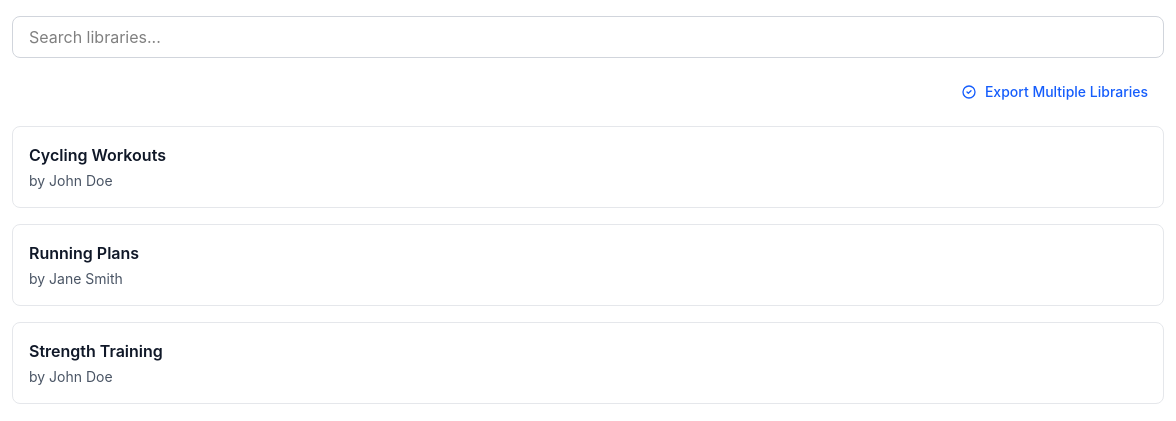
Scenario: LibraryList › Search Functionality › should filter libraries by name
The width and height of the screenshot is (1176, 421).
Expected: the heading "Cycling Workouts" is shown, x1=29 y1=145 x2=166 y2=165
Type "Cycling" into the field with placeholder "Search libraries..." at coordinates (588, 37), box x1=12 y1=16 x2=1164 y2=58
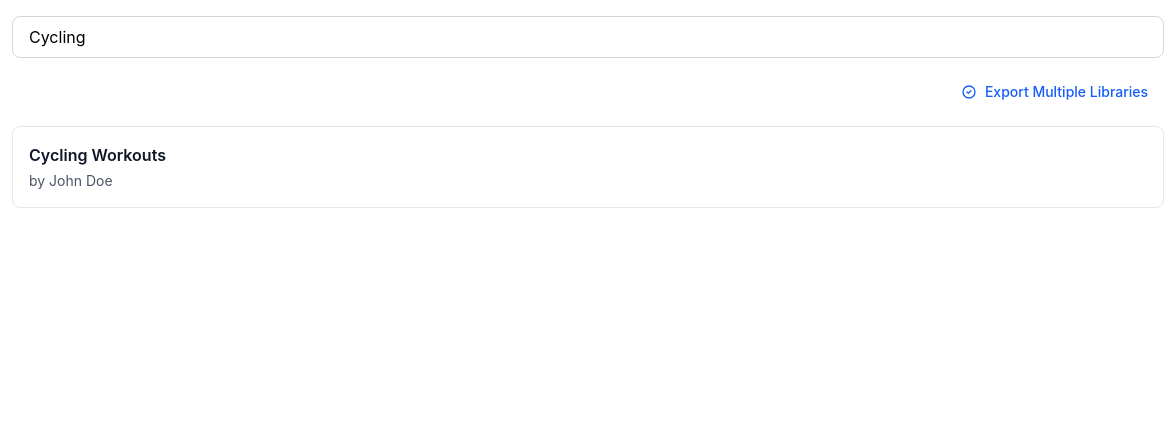
Expected: the heading "Cycling Workouts" is shown, x1=29 y1=145 x2=166 y2=165
Now the button "Running Plans" is gone
